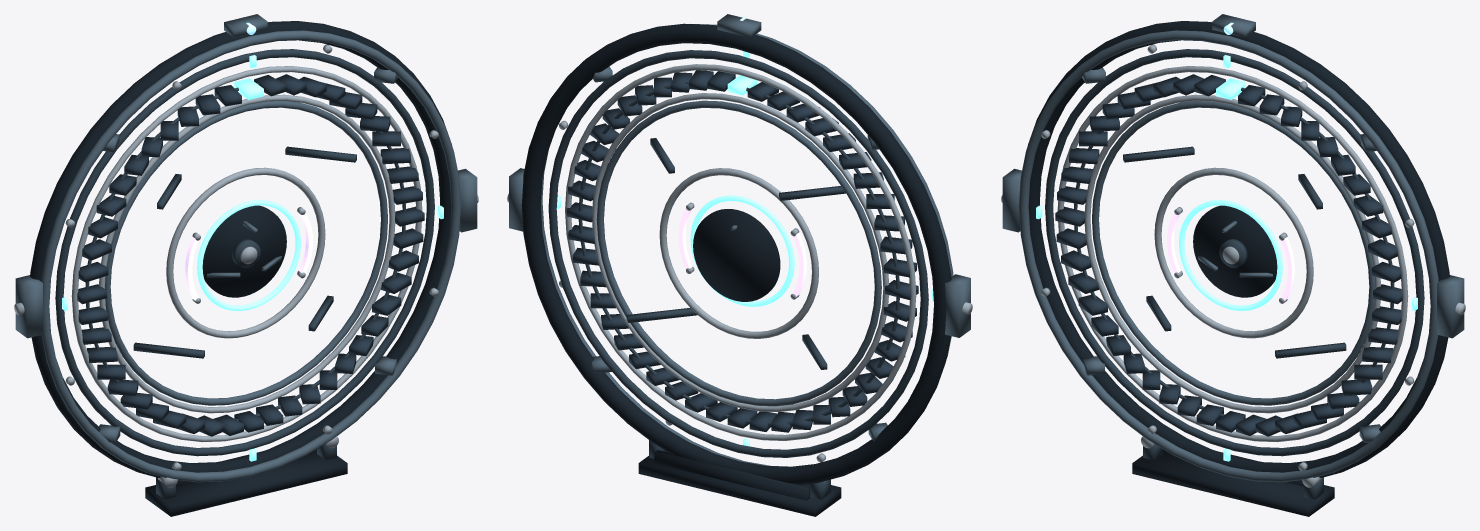
Rendered from sandbox-inference-instrument-v2.glb.
The picture shows the model from 3 angles, left to right: view 1: azimuth 30°, elevation 25°; view 2: azimuth 150°, elevation 25°; view 3: azimuth 330°, elevation 25°; orthographic projection.
Parts seen in each view (by area): view 1: housing_outer_annular_bezel, housing_front_rim, housing_inner_step_collar, housing_risk_inner_collar, risk_track_outer_rail, risk_track_inner_rail, core_recessed_cavity_backing, base_platform_plinth, core_outer_aperture_collar, core_focal_optic_ring, housing_flange_left, housing_flange_right (+4 smaller); view 2: housing_outer_annular_bezel, housing_inner_step_collar, risk_track_outer_rail, housing_risk_inner_collar, core_recessed_cavity_backing, risk_track_inner_rail, core_outer_aperture_collar, base_platform_plinth, housing_front_rim, base_stabilizer_plate, risk_track_midline_wire, core_focal_optic_ring (+5 smaller); view 3: housing_outer_annular_bezel, housing_front_rim, housing_inner_step_collar, housing_risk_inner_collar, risk_track_outer_rail, risk_track_inner_rail, core_recessed_cavity_backing, base_platform_plinth, core_outer_aperture_collar, core_focal_optic_ring, housing_flange_right, housing_flange_left (+4 smaller).
Boxes of the visible parts, box(x1,y1,x2,y2) form: housing_outer_annular_bezel: box(30, 21, 451, 482); housing_front_rim: box(41, 30, 460, 482); housing_inner_step_collar: box(55, 49, 434, 456); housing_risk_inner_collar: box(105, 101, 387, 405); risk_track_outer_rail: box(71, 66, 422, 442); risk_track_inner_rail: box(99, 94, 395, 413); core_recessed_cavity_backing: box(202, 205, 286, 297); base_platform_plinth: box(145, 449, 347, 516); core_outer_aperture_collar: box(166, 167, 325, 338); core_focal_optic_ring: box(197, 199, 300, 310); housing_flange_left: box(15, 275, 42, 338); housing_flange_right: box(458, 168, 477, 232); housing_outer_annular_bezel: box(521, 23, 951, 484); housing_inner_step_collar: box(548, 50, 928, 457); risk_track_outer_rail: box(565, 64, 916, 440); housing_risk_inner_collar: box(596, 100, 881, 406); core_recessed_cavity_backing: box(693, 209, 780, 301); risk_track_inner_rail: box(592, 93, 889, 412); core_outer_aperture_collar: box(659, 168, 818, 338); base_platform_plinth: box(638, 456, 841, 516); housing_front_rim: box(540, 24, 953, 466); base_stabilizer_plate: box(654, 450, 809, 500); risk_track_midline_wire: box(578, 81, 899, 425); core_focal_optic_ring: box(690, 195, 794, 306); housing_outer_annular_bezel: box(1028, 21, 1449, 482); housing_front_rim: box(1019, 30, 1438, 482); housing_inner_step_collar: box(1045, 49, 1424, 456); housing_risk_inner_collar: box(1092, 101, 1374, 405); risk_track_outer_rail: box(1057, 66, 1408, 442); risk_track_inner_rail: box(1084, 94, 1380, 413); core_recessed_cavity_backing: box(1193, 205, 1277, 297); base_platform_plinth: box(1132, 449, 1334, 516); core_outer_aperture_collar: box(1154, 167, 1313, 338); core_focal_optic_ring: box(1179, 199, 1282, 310); housing_flange_right: box(1437, 275, 1464, 338); housing_flange_left: box(1002, 168, 1021, 232).
Size of the model in its own units: 4.1 by 3.96 by 0.435.
